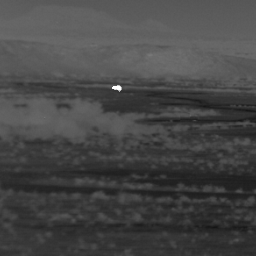Target: (111, 84, 123, 92)
